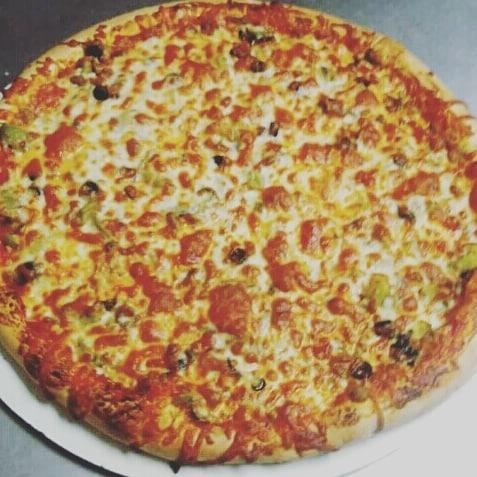Pizza: (0, 0, 477, 469)
